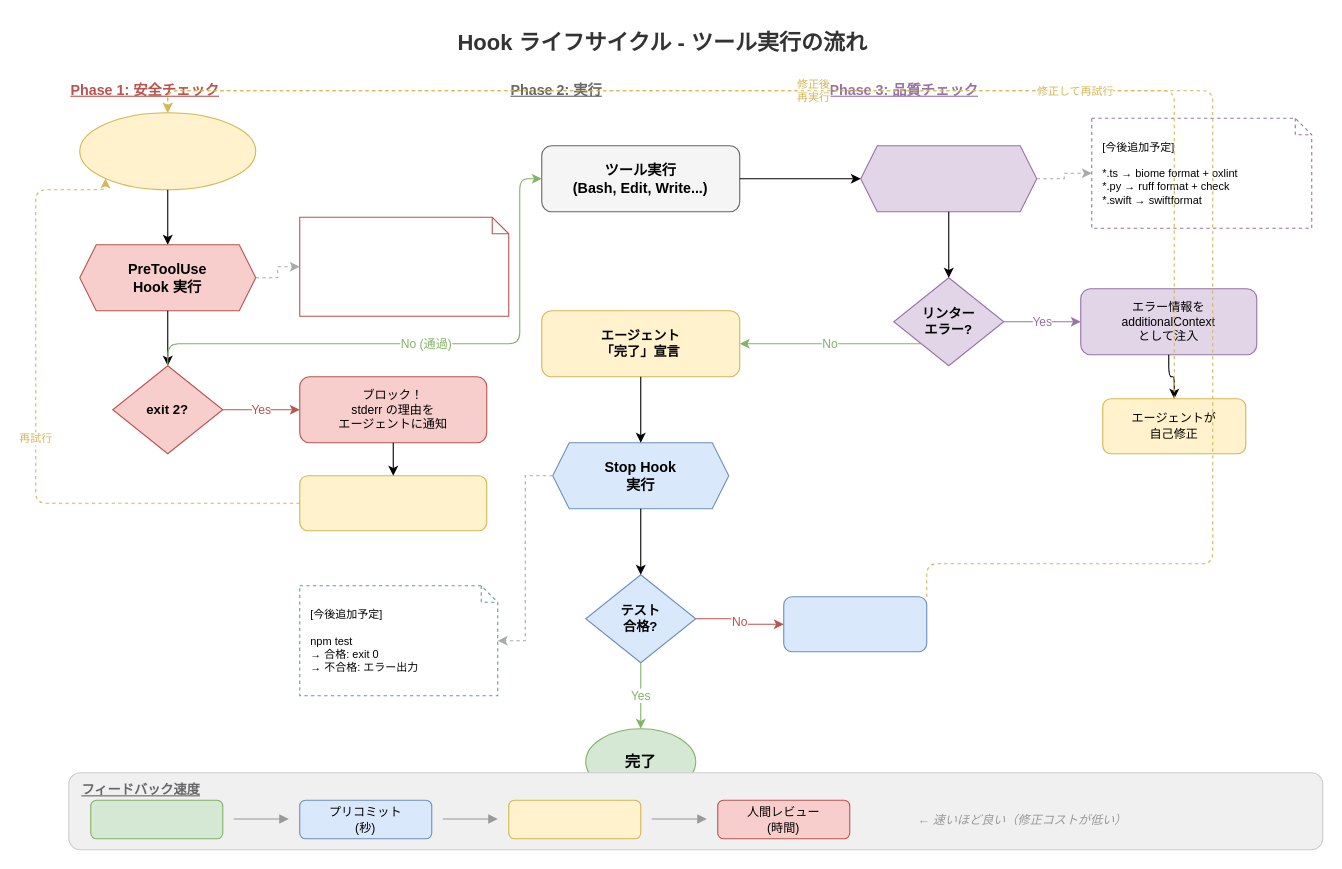
Image size: 1342x869. Some labels were removed from this diagram. The centre of each missing label's shape, as x and y in pixels:
"CI/CD (分)" goes at point 574,819.
"PostToolUse (ミリ秒)" goes at point 156,819.
"PostToolUse Hook 実行" goes at point 948,178.
"safe_command.py rm -rf → exit 2 (ブロック) ls -la → exit 0 (通過)" goes at point 404,266.
"エージェントが ツールを呼び出す" goes at point 167,151.
"エージェントが 別のアプローチを試行" goes at point 393,503.
"完了を撤回 修正を続行" goes at point 855,624.
